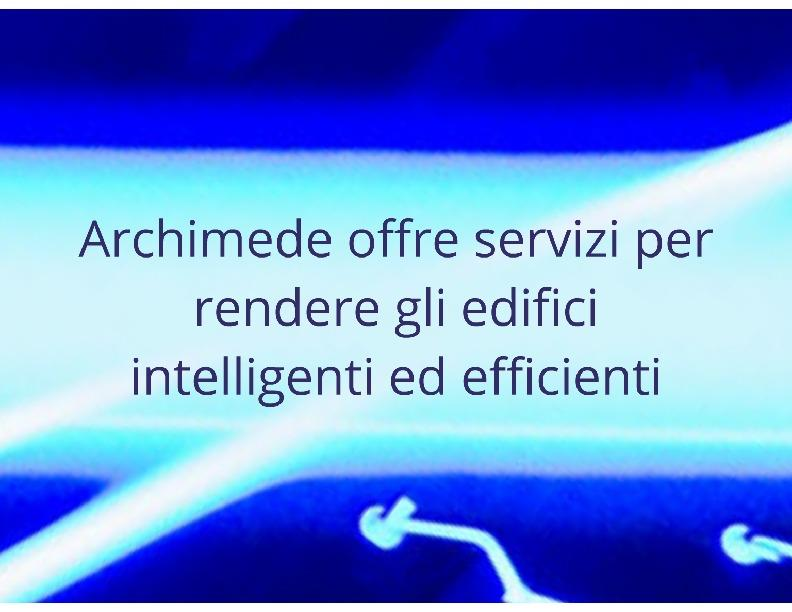title: (63, 194, 752, 436)
